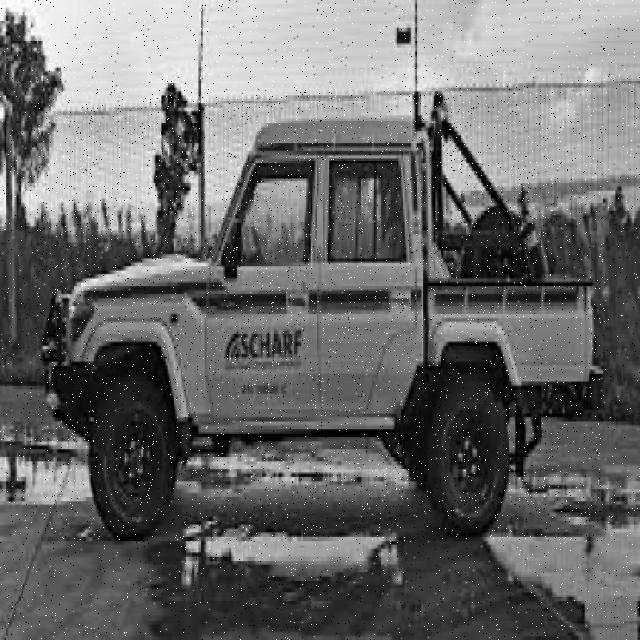Pickup- Utility: (41, 90, 604, 542)
